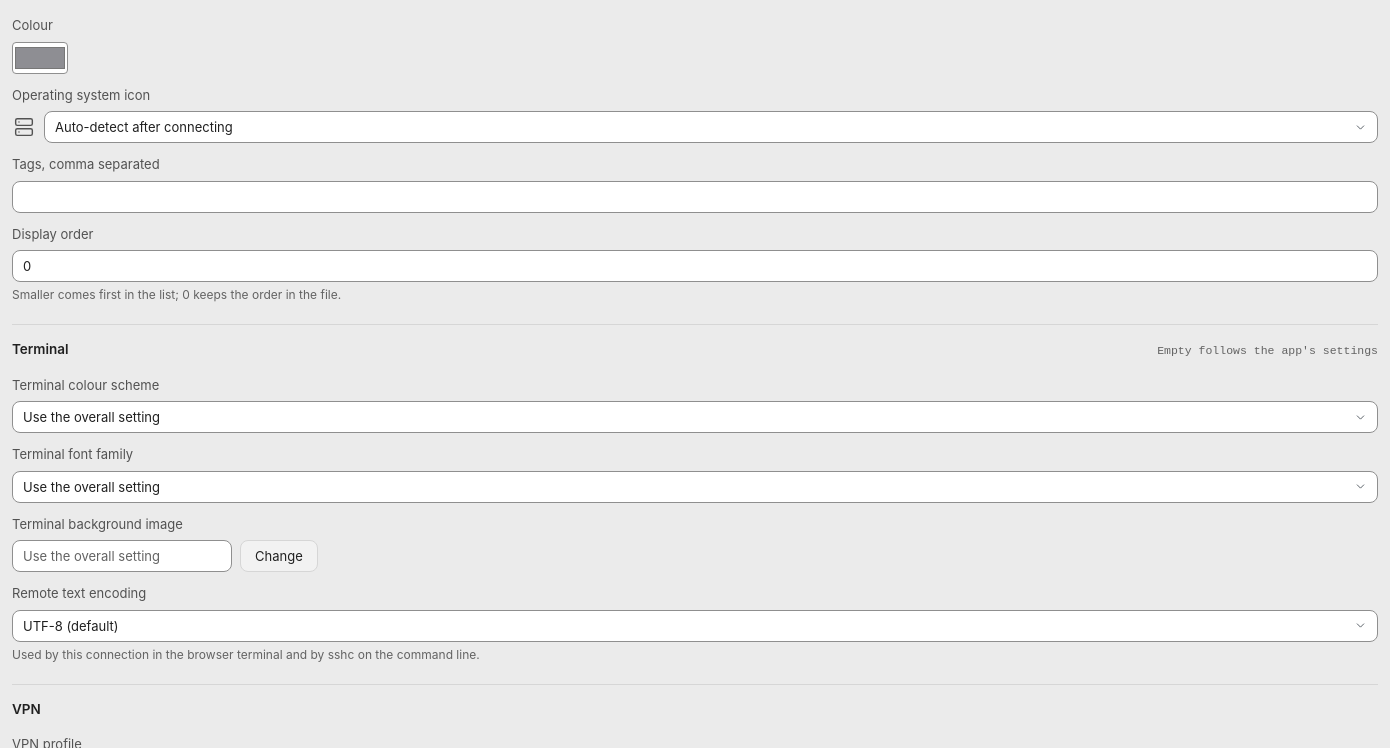
Scenario: HostInspector › keeps a change as a draft until Save is pressed
Select "Shift_JIS (Japanese)" in the dropdown labelled "Remote text encoding" at (695, 626), box top-left (12, 610), bottom-right (1378, 642)
(page scrolled)
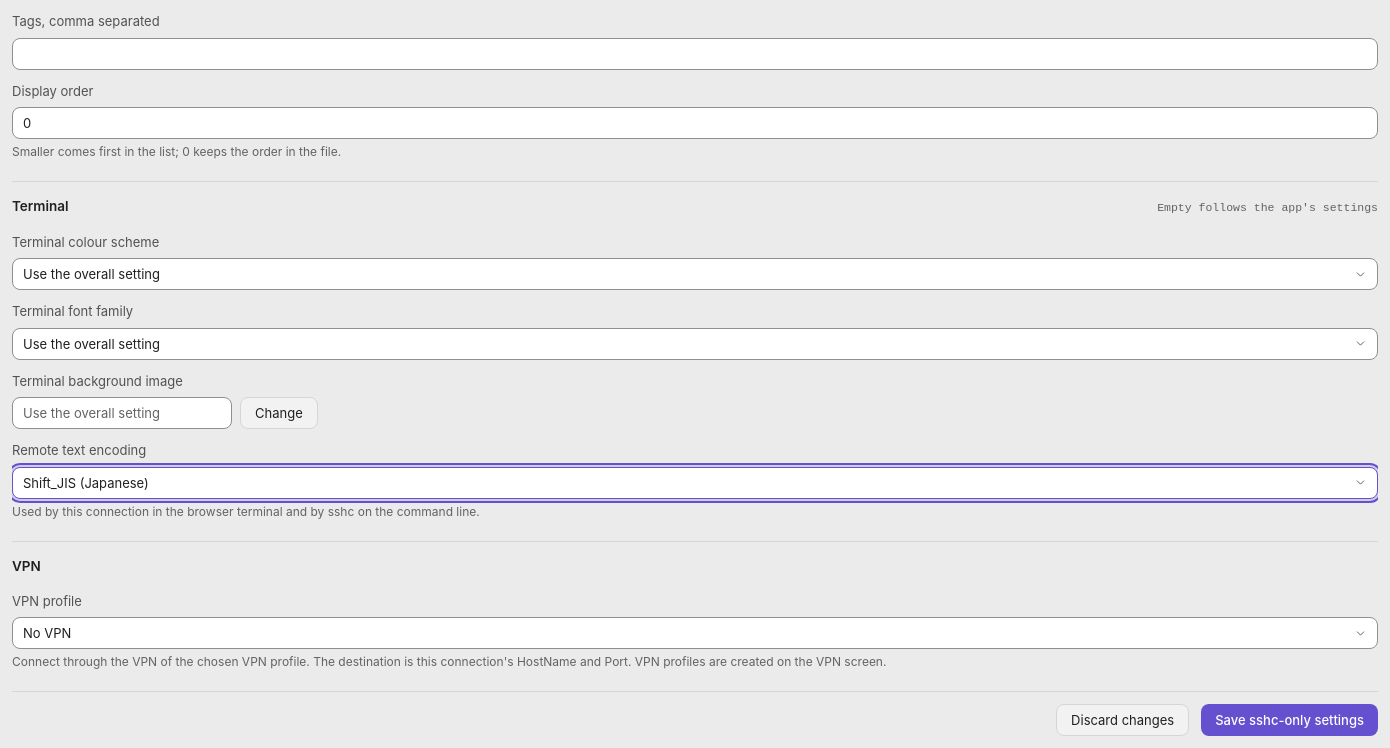
expect the button "Save sshc-only settings" is enabled: met, box top-left (1201, 704), bottom-right (1378, 736)
expect the button "Discard changes" is enabled: met, box top-left (1056, 704), bottom-right (1189, 736)
